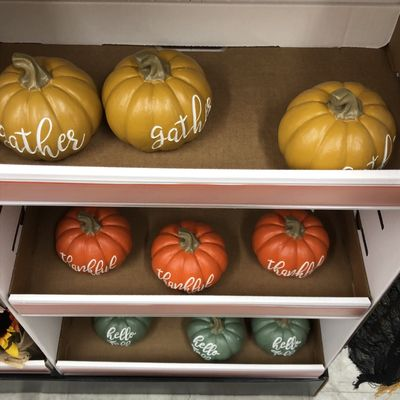pasta: (100, 48, 215, 153), (0, 53, 103, 162)
steak: (277, 80, 398, 171)
